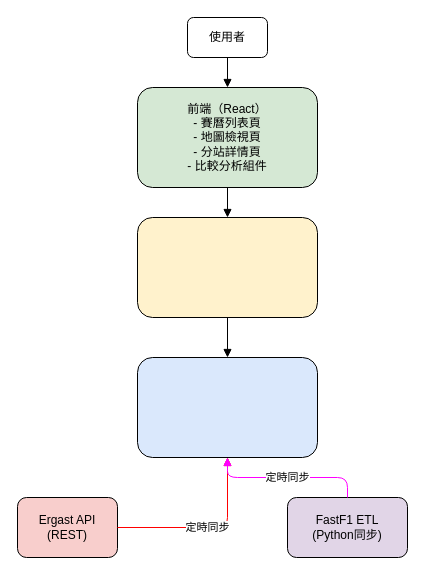
This 425x575 diagram has some shape labels left out. The box of each missing label's shape, as (x1, y1, x2, y2) in pixels:
MariaDB 資料庫 - 賽事資料表 - 車手資料表 - 圈速/進站表: (136, 356, 318, 458)
後端（Express） - 賽事/車手 API - 比較分析 API - 資料查詢 - 排程任務: (136, 216, 318, 318)
